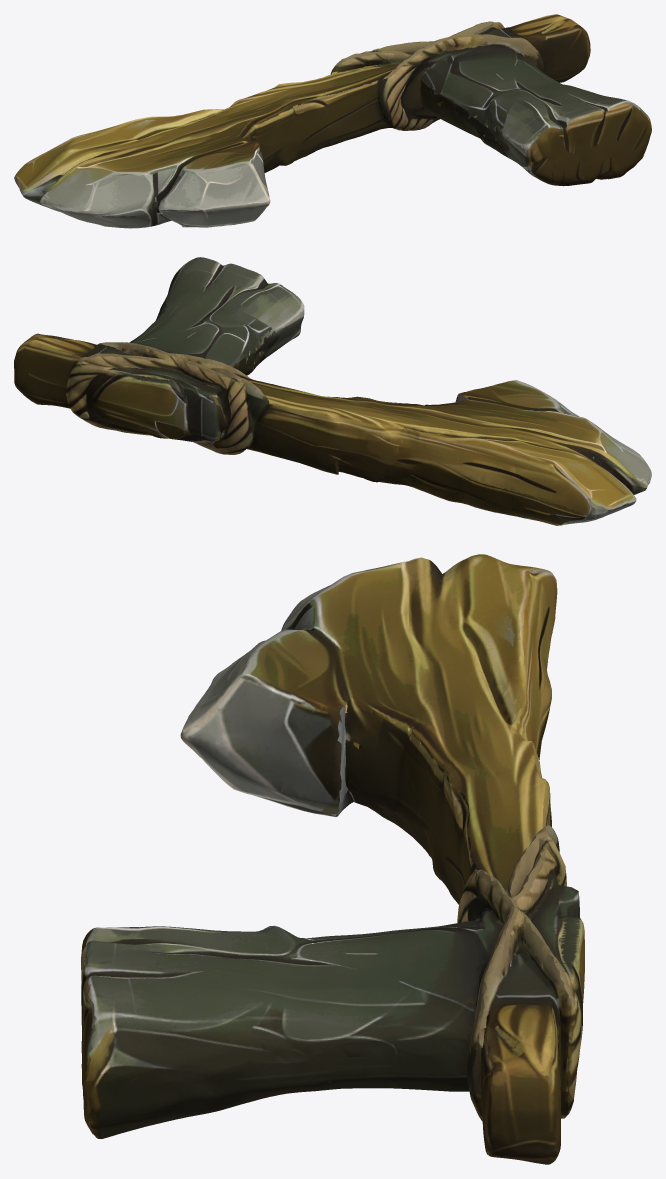
Rendered from tool_axe_stone.glb.
3 renders of one model, top to bottom at view 1: azimuth 30°, elevation 25°; view 2: azimuth 150°, elevation 25°; view 3: azimuth 270°, elevation 25°, orthographic. The views are drawn at different scales.
Visible parts, largest first — view 1: tool_axe_stone; view 2: tool_axe_stone; view 3: tool_axe_stone.
Boxes of the visible parts, x1,y1,x2,y2 form: tool_axe_stone: (14,14,651,228); tool_axe_stone: (14,257,651,525); tool_axe_stone: (81,554,584,1164).
Bounding box in the file's own units: 0.6 × 0.0817 × 0.2285.
1 material, 1 textured.
